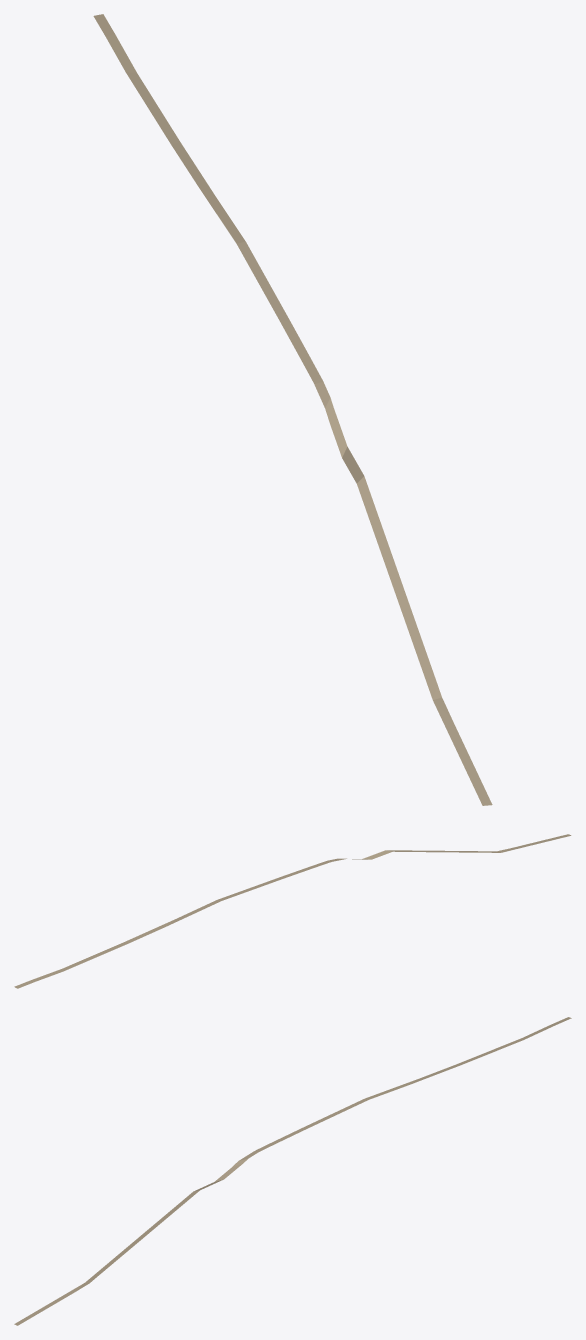
The model's file is farm_2_19_track.glb.
3 renders of one model, top to bottom at view 1: azimuth 30°, elevation 25°; view 2: azimuth 150°, elevation 25°; view 3: azimuth 330°, elevation 25°, orthographic. The views are drawn at different scales.
Parts seen in each view (by area): view 1: geometry_0; view 2: geometry_0; view 3: geometry_0.
Part boxes in pixels (x1,y1,x2,y2): geometry_0: (93,14,492,805); geometry_0: (14,834,571,988); geometry_0: (14,1017,571,1325).
Size of the model in its own units: 135 by 56.23 by 477.
